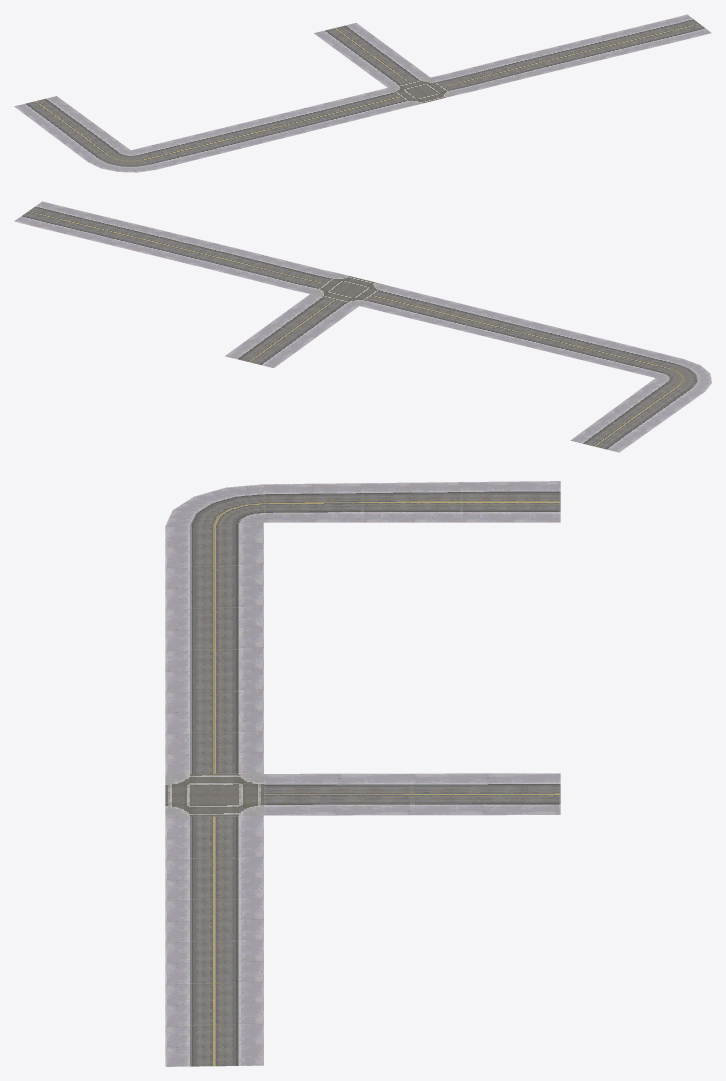
The model's file is lodaseroad111.obj.
3 views of the same model, one above another, from view 1: azimuth 30°, elevation 25°; view 2: azimuth 150°, elevation 25°; view 3: azimuth 270°, elevation 25° (orthographic). The views are drawn at different scales.
Visible parts, largest first — view 1: lodasEroad111; view 2: lodasEroad111; view 3: lodasEroad111.
Boxes of the visible parts, bbox=[...] form: lodasEroad111: bbox=[14, 14, 711, 172]; lodasEroad111: bbox=[14, 201, 711, 452]; lodasEroad111: bbox=[165, 481, 560, 1066].
Size of the model in its own units: 280 by 0.7639 by 80.01.
2 materials, 2 textured.
